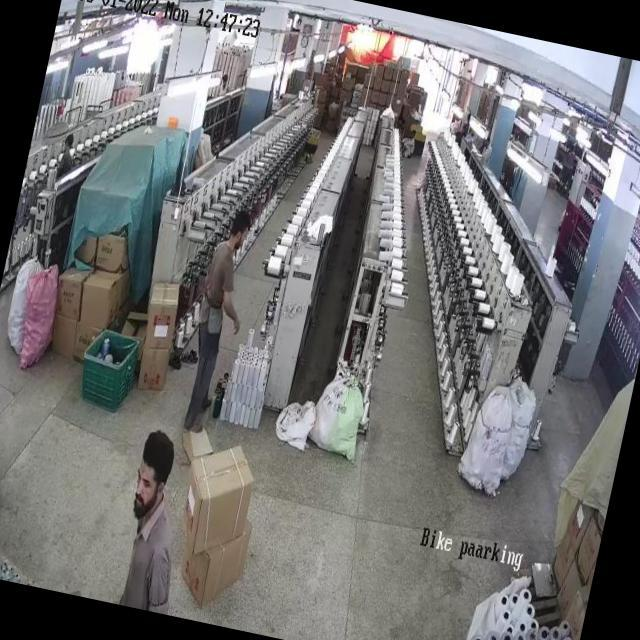person: (180, 204, 270, 431), (114, 430, 198, 613)
